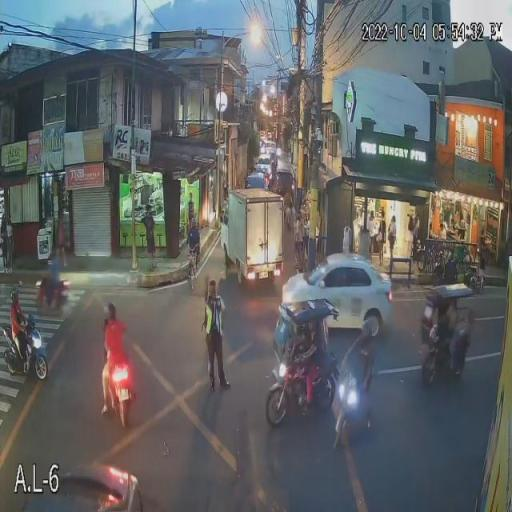helmet: (102, 301, 117, 322), (361, 316, 376, 330), (11, 289, 22, 301)
motorcycle: (266, 298, 340, 428), (419, 285, 477, 386), (326, 362, 374, 450), (1, 319, 51, 380), (101, 348, 136, 428), (34, 278, 70, 312)
rider: (334, 316, 380, 394), (101, 302, 129, 390), (293, 332, 324, 407), (10, 290, 34, 362), (444, 313, 470, 372), (41, 253, 62, 303)
